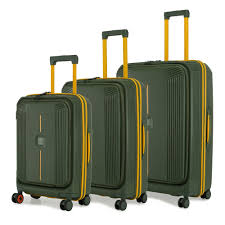suitcase: (113, 5, 214, 211), (58, 26, 152, 211), (9, 53, 94, 212)
